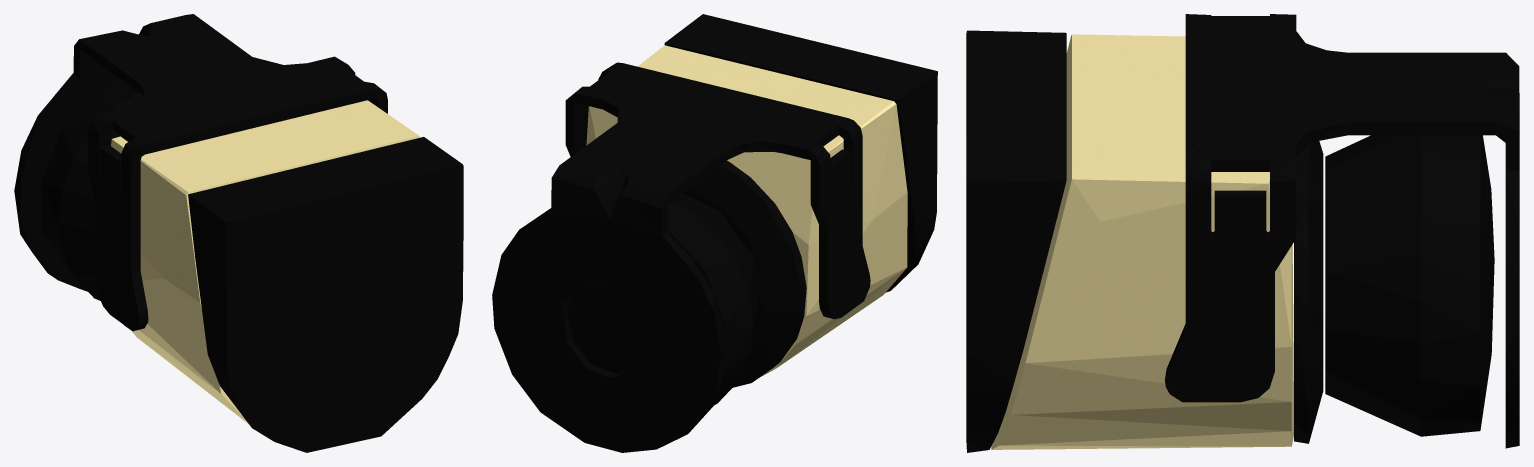
Rendered from laser.dae.
The picture shows the model from 3 angles, left to right: view 1: azimuth 30°, elevation 25°; view 2: azimuth 150°, elevation 25°; view 3: azimuth 270°, elevation 25°; orthographic projection. The views are drawn at different scales.
Parts seen in each view (by area): view 1: node; view 2: node; view 3: node.
Part boxes in pixels (x1=…): node: x1=14, y1=14, x2=463, y2=452; node: x1=492, y1=14, x2=937, y2=452; node: x1=966, y1=14, x2=1519, y2=452.
Size of the model in its own units: 0.1159 by 0.1683 by 0.1165.
Materials: 1 (1 with a texture image).
